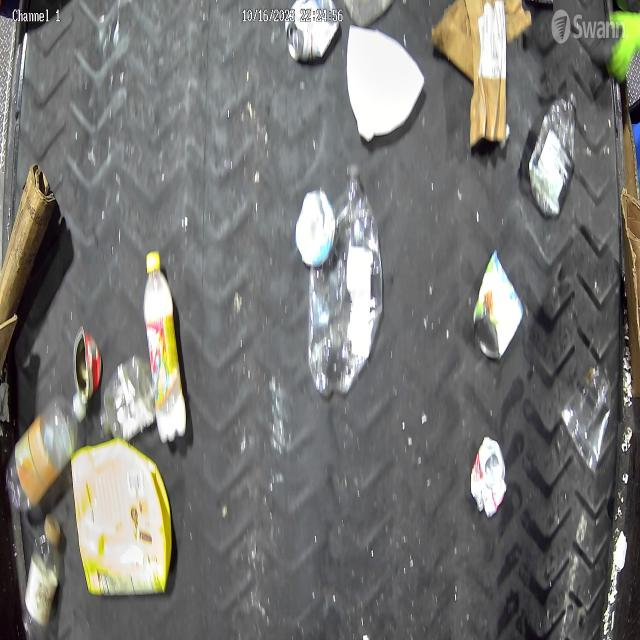can: (473, 252, 526, 362), (284, 0, 340, 61), (469, 439, 506, 517), (72, 327, 101, 416)
non_white_jug: (75, 439, 174, 599)
plastic_bottle: (310, 168, 383, 396), (6, 390, 84, 517), (143, 251, 186, 444), (526, 91, 577, 218), (19, 510, 66, 637), (98, 354, 157, 441)
